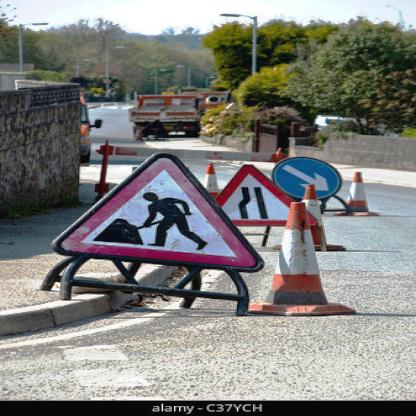Keep right: (270, 150, 349, 206)
